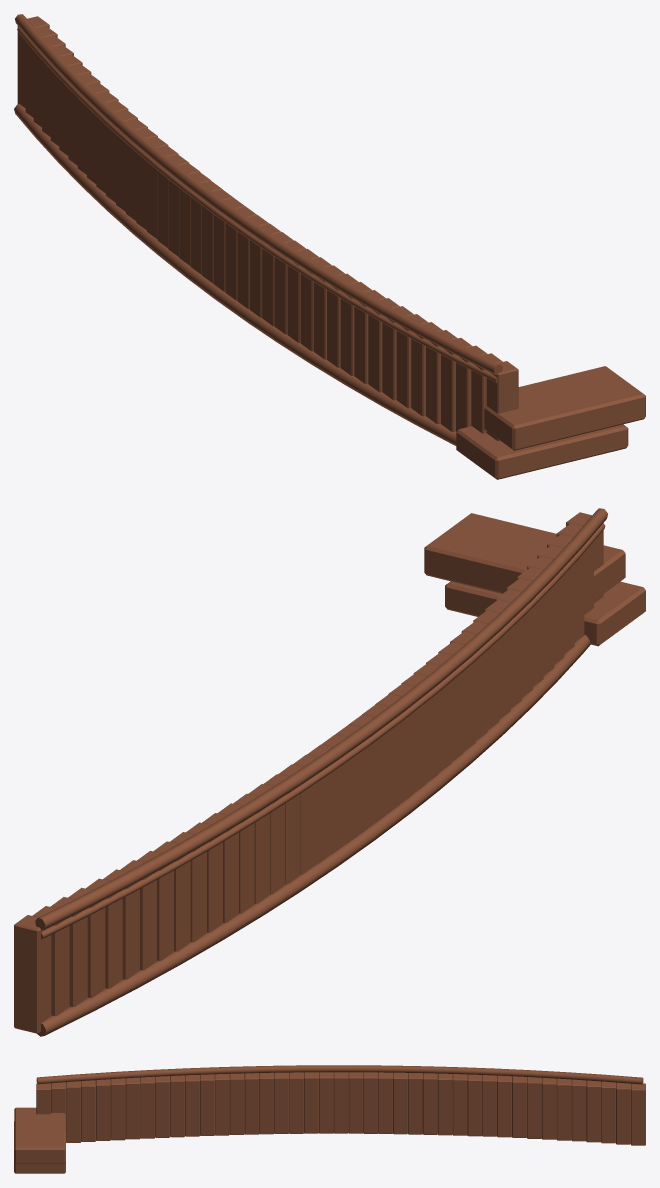
File: SM_Menu_StageApron.fbx
3 renders of one model, top to bottom at view 1: azimuth 30°, elevation 25°; view 2: azimuth 150°, elevation 25°; view 3: azimuth 270°, elevation 25°, orthographic. The views are drawn at different scales.
Parts seen in each view (by area): view 1: SM_Menu_StageApron; view 2: SM_Menu_StageApron; view 3: SM_Menu_StageApron.
Part boxes in pixels (x1,y1,x2,y2): SM_Menu_StageApron: [14, 14, 645, 479]; SM_Menu_StageApron: [14, 508, 645, 1036]; SM_Menu_StageApron: [14, 1065, 645, 1173].
Bounding box in the file's own units: 239 × 1178 × 131.
